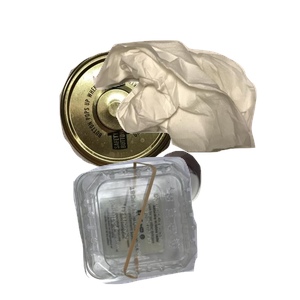glass: (90, 148, 300, 300)
metal: (57, 47, 227, 211)
plastic: (71, 154, 300, 300)
trash: (90, 38, 300, 183)
